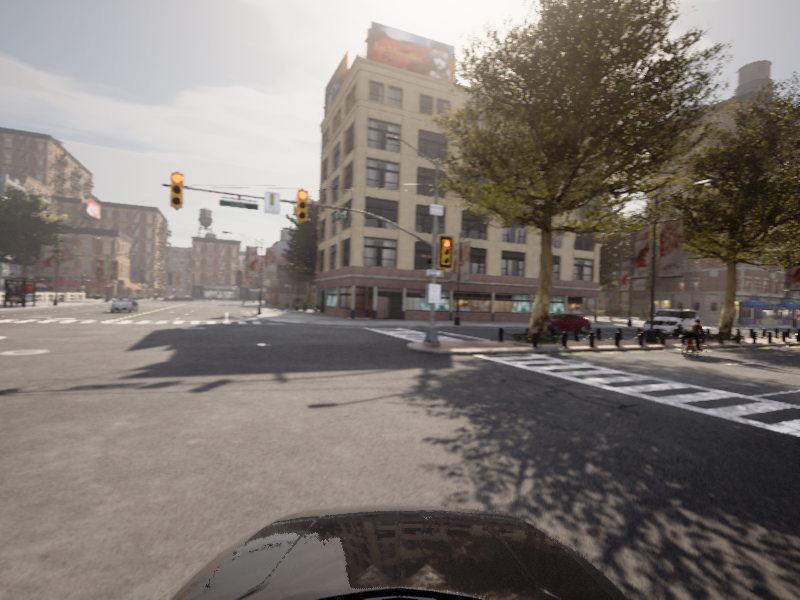vehicle: (640, 307, 704, 338), (674, 318, 714, 358), (527, 312, 595, 334), (107, 295, 140, 313)
